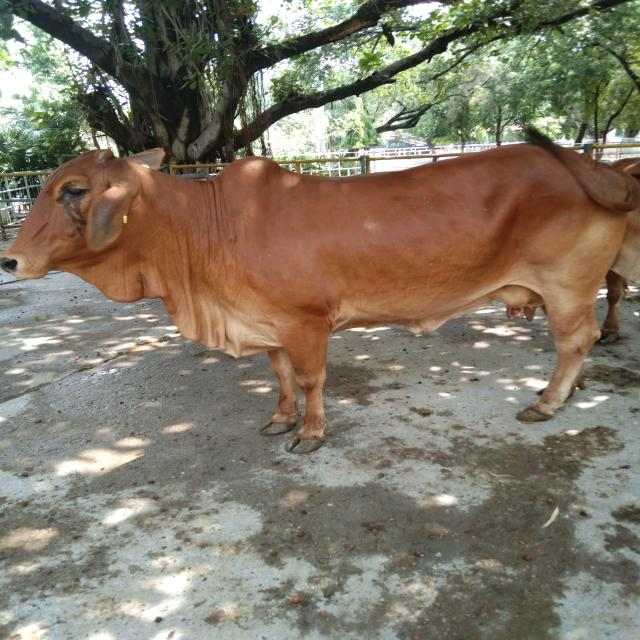1: (202, 156, 303, 184)
Hoof: (285, 432, 326, 454), (259, 419, 296, 436), (515, 407, 552, 423)
